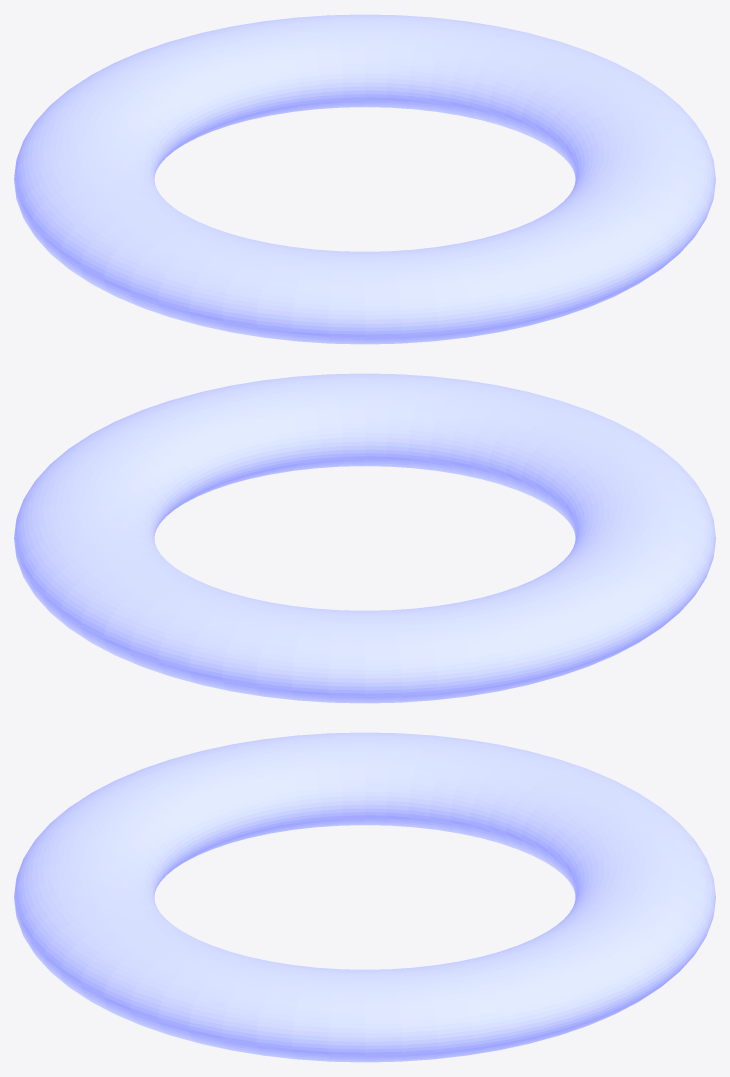
Rendered from Disktest2.fbx.
3 renders of one model, top to bottom at view 1: azimuth 30°, elevation 25°; view 2: azimuth 150°, elevation 25°; view 3: azimuth 270°, elevation 25°, orthographic.
Parts seen in each view (by area): view 1: Torus.001; view 2: Torus.001; view 3: Torus.001.
Part boxes in pixels (<box>): Torus.001: <box>14,14,715,344</box>; Torus.001: <box>14,373,715,703</box>; Torus.001: <box>14,732,715,1062</box>.
Bounding box in the file's own units: 250 × 28 × 250.
